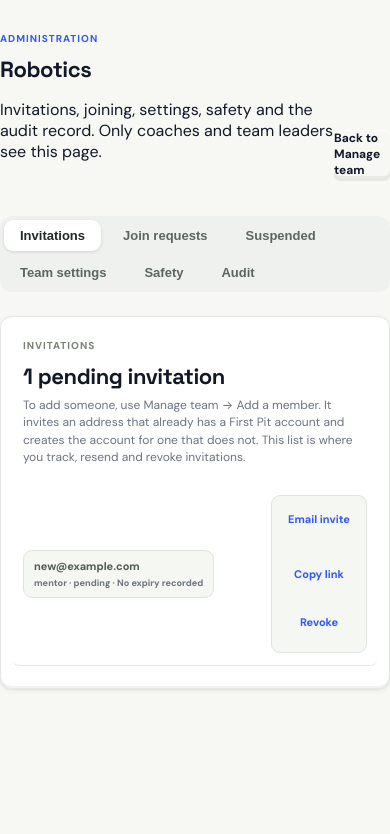
Test case: AdministrationPage › explains a concurrent moderation edit instead of failing generically
This screenshot has width=390, height=834.
Click the tab "Safety".
click(164, 272)  # box x1=128 y1=257 x2=200 y2=288
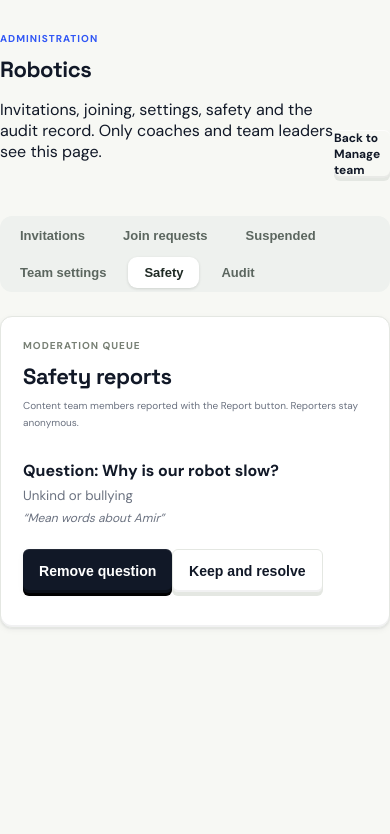
Click the button "Keep and resolve".
click(248, 571)  # box x1=172 y1=549 x2=323 y2=593
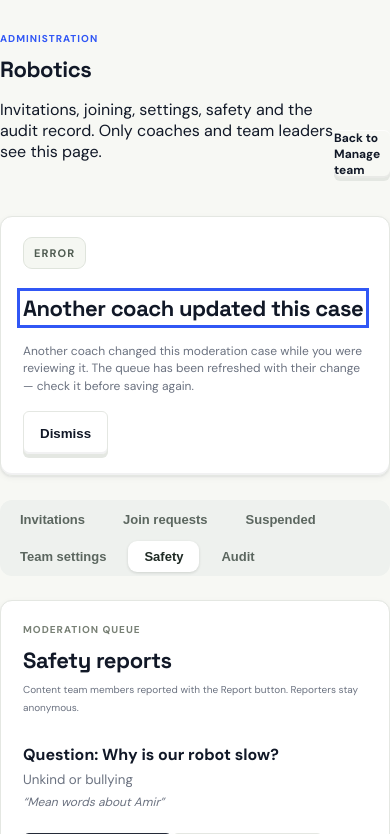
Now the heading "Another coach updated this case" is shown, box x1=23 y1=294 x2=363 y2=322
Now the text "refreshed with their change" is shown, box x1=23 y1=343 x2=362 y2=394
